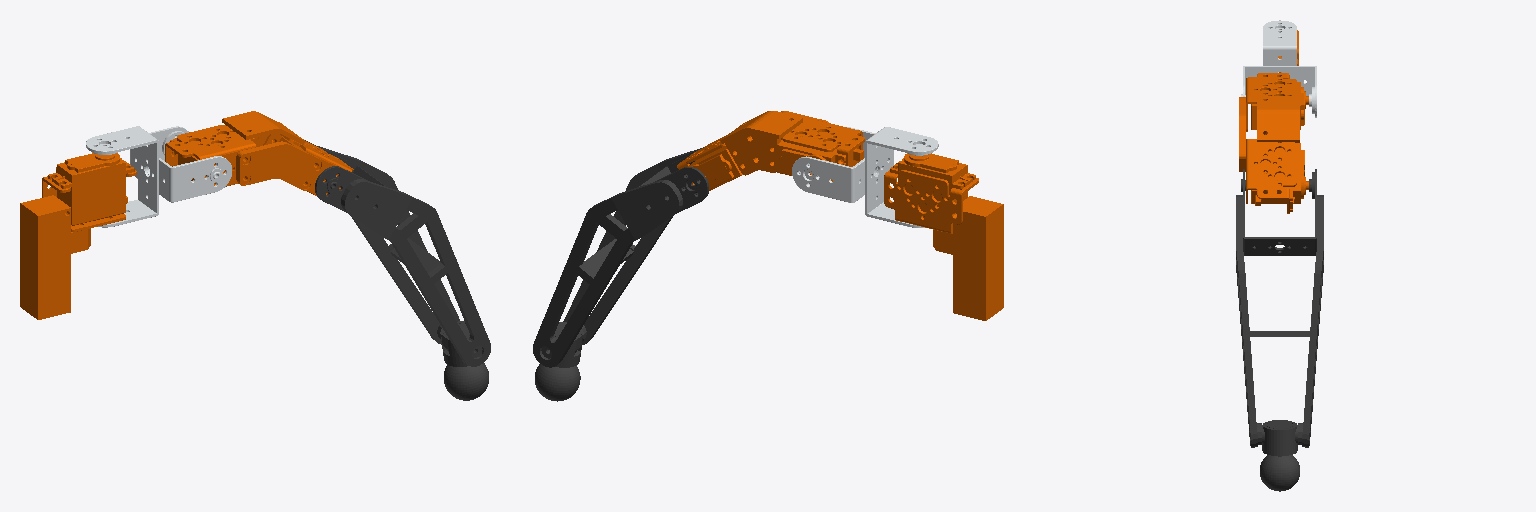
The robot description file, URDF, robot "elkapod_left_leg_description":
<?xml version="1.0" encoding="utf-8"?>
<!-- This URDF was automatically created by SolidWorks to URDF Exporter! Originally created by [author] ([email redacted]) 
     Commit Version: 1.6.0-4-g7f85cfe  Build Version: 1.6.7995.38578
     For more information, please see http://wiki.ros.org/sw_urdf_exporter -->
<robot
  name="elkapod_left_leg_description">
  <link
    name="base_link">
    <inertial>
      <origin
        xyz="-0.023995 0.00067316 0.061186"
        rpy="0 0 0" />
      <mass
        value="0.13339" />
      <inertia
        ixx="4.049E-05"
        ixy="-2.1551E-09"
        ixz="-1.4138E-06"
        iyy="5.3078E-05"
        iyz="-4.4082E-07"
        izz="2.339E-05" />
    </inertial>
    <visual>
      <origin
        xyz="0 0 0"
        rpy="0 0 0" />
      <geometry>
        <mesh
          filename="package://elkapod_left_leg_description/meshes/base_link.STL" />
      </geometry>
      <material
        name="">
        <color
          rgba="0.9098 0.44314 0.031373 1" />
      </material>
    </visual>
    <collision>
      <origin
        xyz="0 0 0"
        rpy="0 0 0" />
      <geometry>
        <mesh
          filename="package://elkapod_left_leg_description/meshes/base_link.STL" />
      </geometry>
    </collision>
  </link>
  <link
    name="linkA">
    <inertial>
      <origin
        xyz="0.0338 -0.00016372 0.00013128"
        rpy="0 0 0" />
      <mass
        value="0.021666" />
      <inertia
        ixx="8.8529E-06"
        ixy="-1.789E-15"
        ixz="1.789E-15"
        iyy="7.5021E-06"
        iyz="3.1856E-21"
        izz="7.5021E-06" />
    </inertial>
    <visual>
      <origin
        xyz="0 0 0"
        rpy="0 0 0" />
      <geometry>
        <mesh
          filename="package://elkapod_left_leg_description/meshes/linkA.STL" />
      </geometry>
      <material
        name="">
        <color
          rgba="0.89804 0.91765 0.92941 1" />
      </material>
    </visual>
    <collision>
      <origin
        xyz="0 0 0"
        rpy="0 0 0" />
      <geometry>
        <mesh
          filename="package://elkapod_left_leg_description/meshes/linkA.STL" />
      </geometry>
    </collision>
  </link>
  <joint
    name="J1"
    type="revolute">
    <origin
      xyz="0 0 0.08213"
      rpy="0 0 0" />
    <parent
      link="base_link" />
    <child
      link="linkA" />
    <axis
      xyz="0 0 1" />
    <limit
      lower="-1.5708"
      upper="1.5708"
      effort="1000"
      velocity="1" />
  </joint>
  <link
    name="linkB">
    <inertial>
      <origin
        xyz="0.045774 0.0084104 -0.0045551"
        rpy="0 0 0" />
      <mass
        value="0.16964" />
      <inertia
        ixx="3.1577E-05"
        ixy="-5.3775E-06"
        ixz="-1.145E-07"
        iyy="4.6936E-05"
        iyz="3.6314E-07"
        izz="3.6054E-05" />
    </inertial>
    <visual>
      <origin
        xyz="0 0 0"
        rpy="0 0 0" />
      <geometry>
        <mesh
          filename="package://elkapod_left_leg_description/meshes/linkB.STL" />
      </geometry>
      <material
        name="">
        <color
          rgba="0.9098 0.44314 0.031373 1" />
      </material>
    </visual>
    <collision>
      <origin
        xyz="0 0 0"
        rpy="0 0 0" />
      <geometry>
        <mesh
          filename="package://elkapod_left_leg_description/meshes/linkB.STL" />
      </geometry>
    </collision>
  </link>
  <joint
    name="J2"
    type="revolute">
    <origin
      xyz="0.0676 0 0"
      rpy="-1.5708 0 0" />
    <parent
      link="linkA" />
    <child
      link="linkB" />
    <axis
      xyz="0 0 -1" />
    <limit
      lower="-1.5708"
      upper="1.5708"
      effort="1000"
      velocity="1" />
  </joint>
  <link
    name="linkC">
    <inertial>
      <origin
        xyz="0.069973 0.083595 -0.00028657"
        rpy="0 0 0" />
      <mass
        value="0.10738" />
      <inertia
        ixx="0.00013282"
        ixy="-7.0822E-05"
        ixz="-8.8457E-07"
        iyy="7.4339E-05"
        iyz="-9.307E-07"
        izz="0.00017244" />
    </inertial>
    <visual>
      <origin
        xyz="0 0 0"
        rpy="0 0 0" />
      <geometry>
        <mesh
          filename="package://elkapod_left_leg_description/meshes/linkC.STL" />
      </geometry>
      <material
        name="">
        <color
          rgba="0.29804 0.29804 0.29804 1" />
      </material>
    </visual>
    <collision>
      <origin
        xyz="0 0 0"
        rpy="0 0 0" />
      <geometry>
        <mesh
          filename="package://elkapod_left_leg_description/meshes/linkC.STL" />
      </geometry>
    </collision>
  </link>
  <joint
    name="J3"
    type="revolute">
    <origin
      xyz="0.088094 0.027776 0"
      rpy="0 0 0" />
    <parent
      link="linkB" />
    <child
      link="linkC" />
    <axis
      xyz="0 0 -1" />
    <limit
      lower="-3.1416"
      upper="0"
      effort="1000"
      velocity="1" />
  </joint>
  <link
    name="FCP">
    <inertial>
      <origin
        xyz="-0.1792 -0.0013596 0.18198"
        rpy="0 0 0" />
      <mass
        value="0.4322" />
      <inertia
        ixx="0.0014604"
        ixy="2.7945E-05"
        ixz="0.0015415"
        iyy="0.0056803"
        iyz="1.8055E-05"
        izz="0.0044097" />
    </inertial>
    <visual>
      <origin
        xyz="0 0 0"
        rpy="0 0 0" />
    </visual>
  </link>
  <joint
    name="fcp_fixed"
    type="fixed">
    <origin
      xyz="0.11837 0.19163 -0.0003"
      rpy="1.5708 0 0" />
    <parent
      link="linkC" />
    <child
      link="FCP" />
    <axis
      xyz="0 0 0" />
  </joint>
</robot>

--- Facts derived from the render (not from the file) ---
3 views of the same robot in one strip: view 1: azimuth 30°, elevation 25°; view 2: azimuth 150°, elevation 25°; view 3: azimuth 270°, elevation 25° (orthographic).
Robot: elkapod_left_leg_description — 5 links, 4 joints (3 revolute, 1 fixed); root link base_link; default pose: every joint at zero.
Visible links, largest first — view 1: linkC, base_link, linkB, linkA; view 2: linkC, base_link, linkB, linkA; view 3: linkC, linkB, linkA.
Link boxes in pixels (bbox=[...]): linkC: bbox=[305, 140, 490, 400]; base_link: bbox=[20, 153, 136, 319]; linkB: bbox=[165, 111, 353, 195]; linkA: bbox=[86, 126, 231, 227]; linkC: bbox=[533, 147, 708, 401]; base_link: bbox=[884, 153, 1003, 320]; linkB: bbox=[677, 111, 864, 190]; linkA: bbox=[792, 127, 938, 227]; linkC: bbox=[1236, 169, 1323, 491]; linkB: bbox=[1239, 73, 1308, 213]; linkA: bbox=[1241, 20, 1316, 117].
Bounding box of the posed robot: 0.3437 × 0.0649 × 0.247 m (x, y, z).
Meshes: 4 distinct files referenced, 4 mesh visuals loaded (4 binary STL).